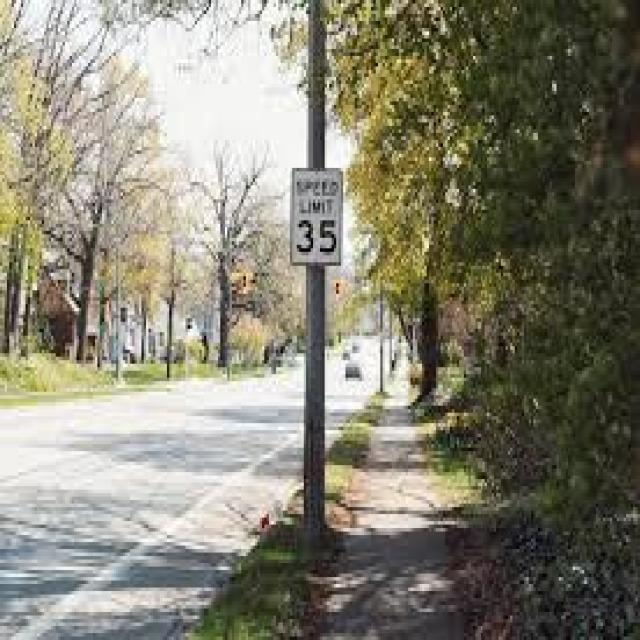speedLimit35: (291, 166, 342, 264)
